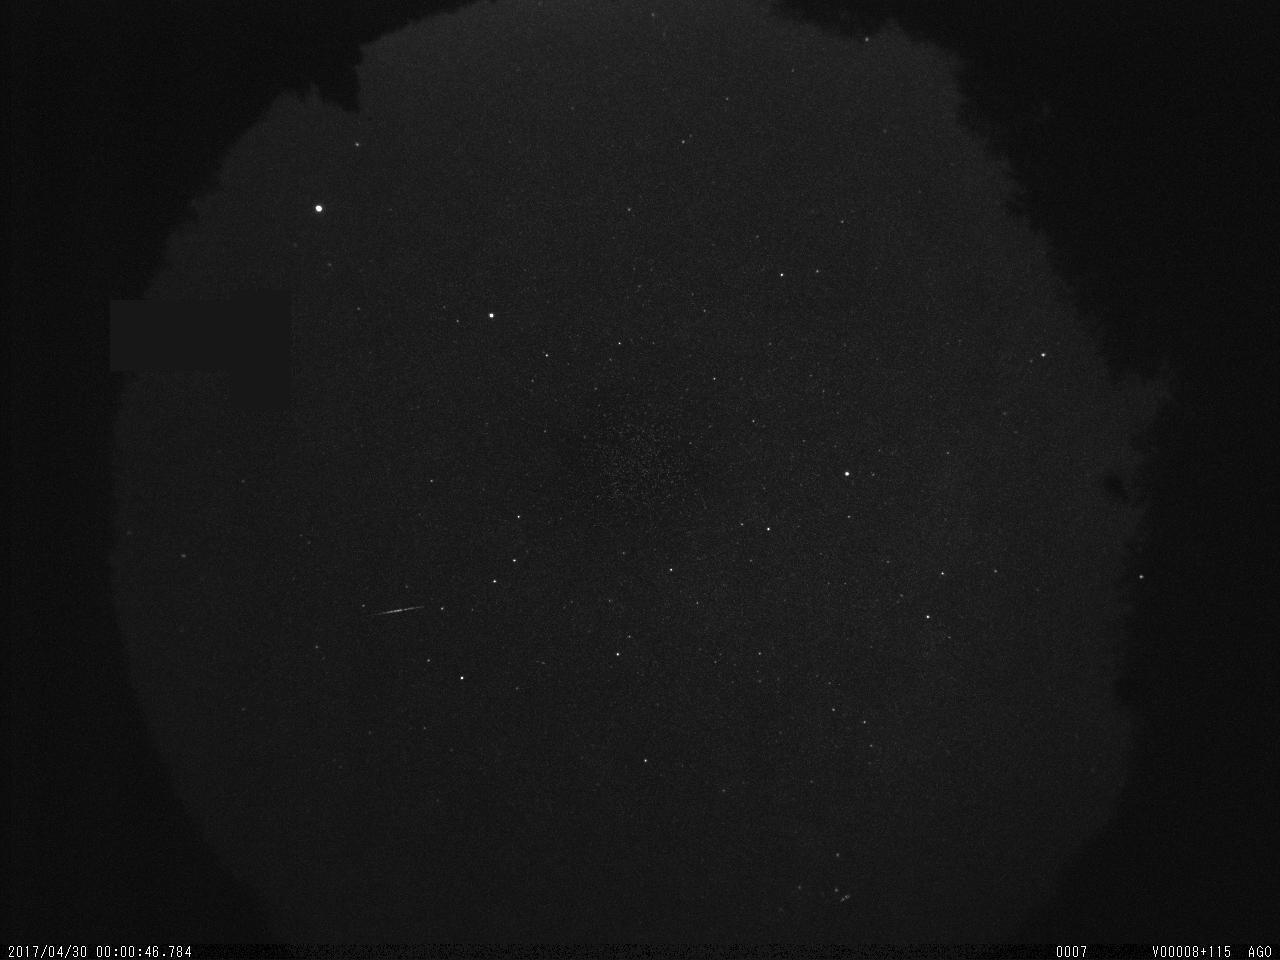Meteor: (370, 602, 424, 618)
